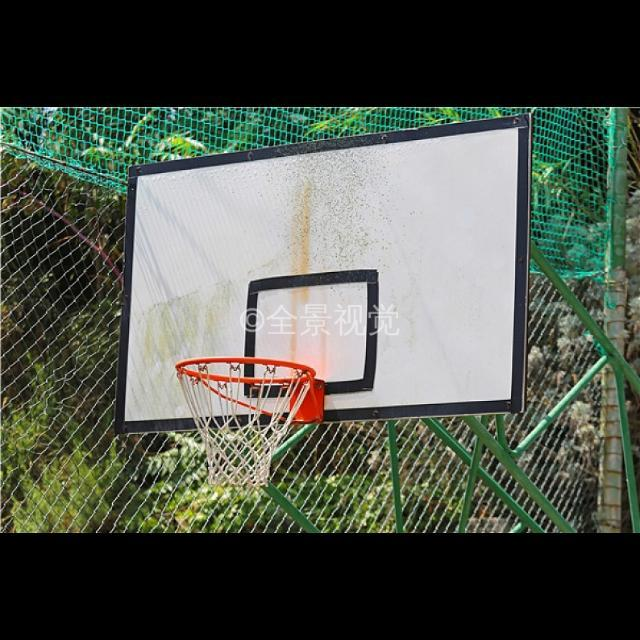rim: (175, 358, 315, 488)
